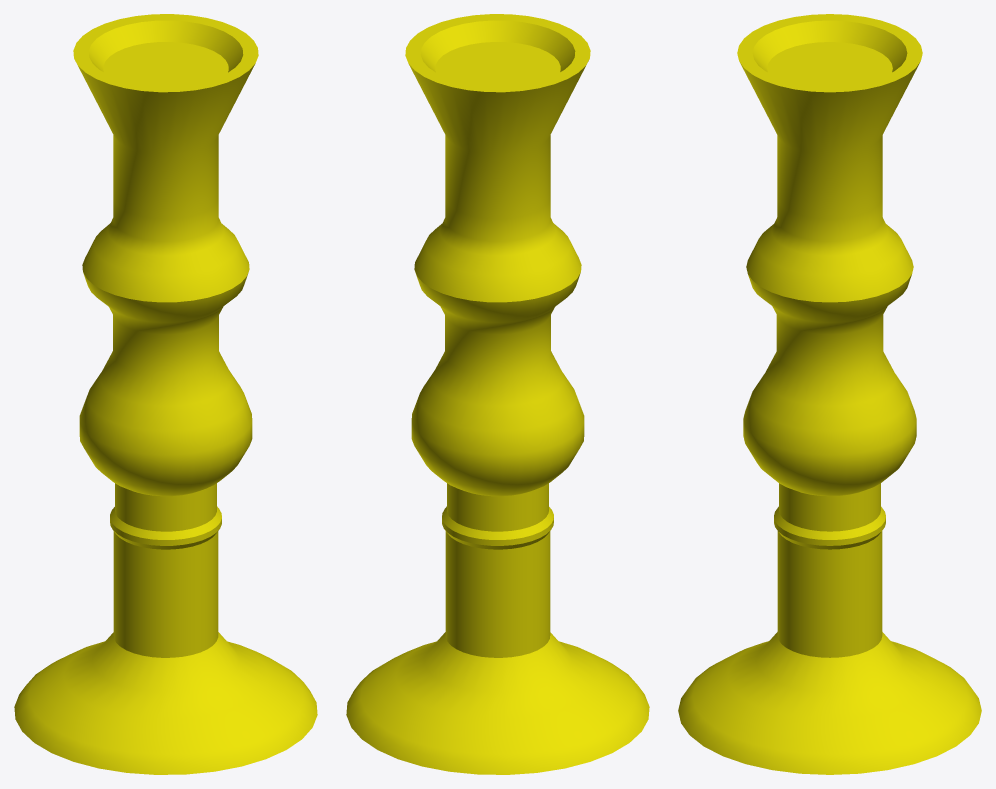
The model's file is CandleStick.fbx.
3 views of the same model, side by side, from view 1: azimuth 30°, elevation 25°; view 2: azimuth 150°, elevation 25°; view 3: azimuth 270°, elevation 25° (orthographic).
Visible parts, largest first — view 1: Circle; view 2: Circle; view 3: Circle.
Part boxes in pixels (box(x1,y1,x2,y2)): Circle: box(14, 14, 317, 774); Circle: box(346, 14, 649, 774); Circle: box(678, 14, 981, 774).
Bounding box in the file's own units: 69.61 × 166 × 69.61.
